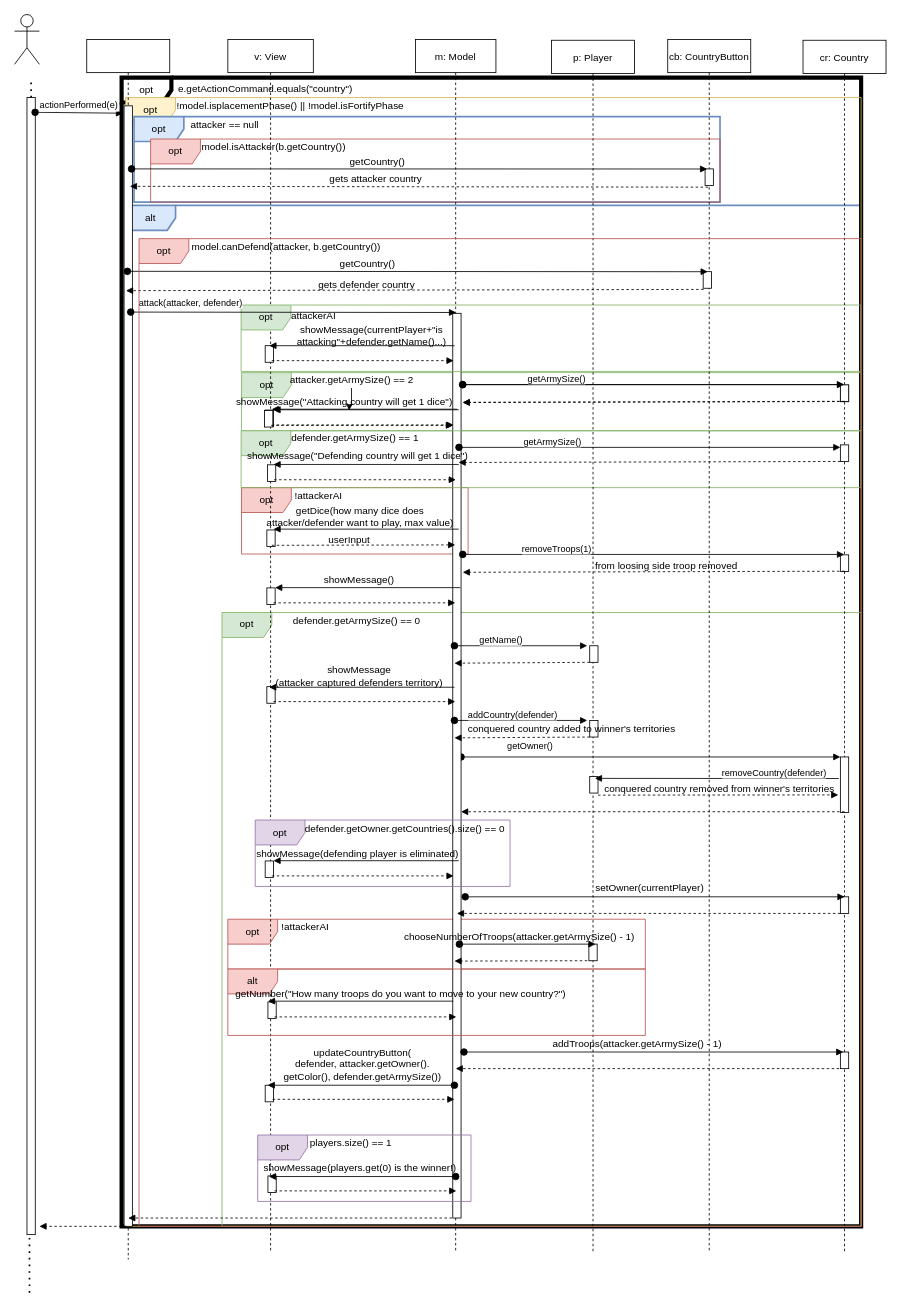
Image size: 901x1309. Some labels were removed from this diagram. The box of each missing label's shape, as (x1, y1, x2, y2) in pixels:
c: Controller: (86, 39, 170, 1260)
User: (14, 14, 39, 64)
